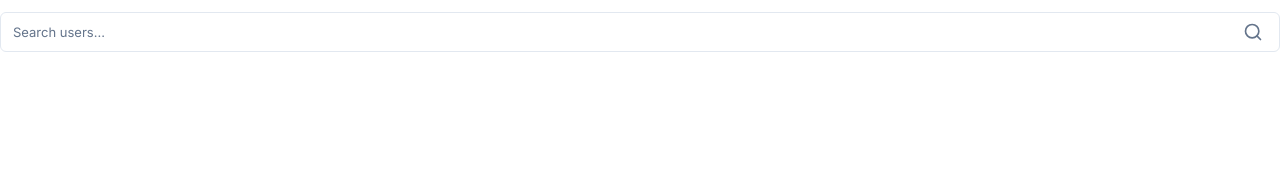
Test: UserLookup › filters eligible users locally when remote search is disabled
Type "presales" into the dropdown named "New Owner".
click(622, 32); type("presales")  # box [13,14,1231,50]
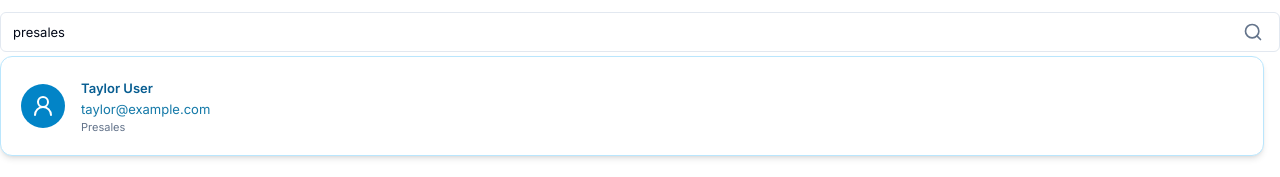
Expected: the option "Taylor User taylor@example.com Presales" is shown, [9,65,1255,147]
Expected: the option "Grace Hopper" is gone
